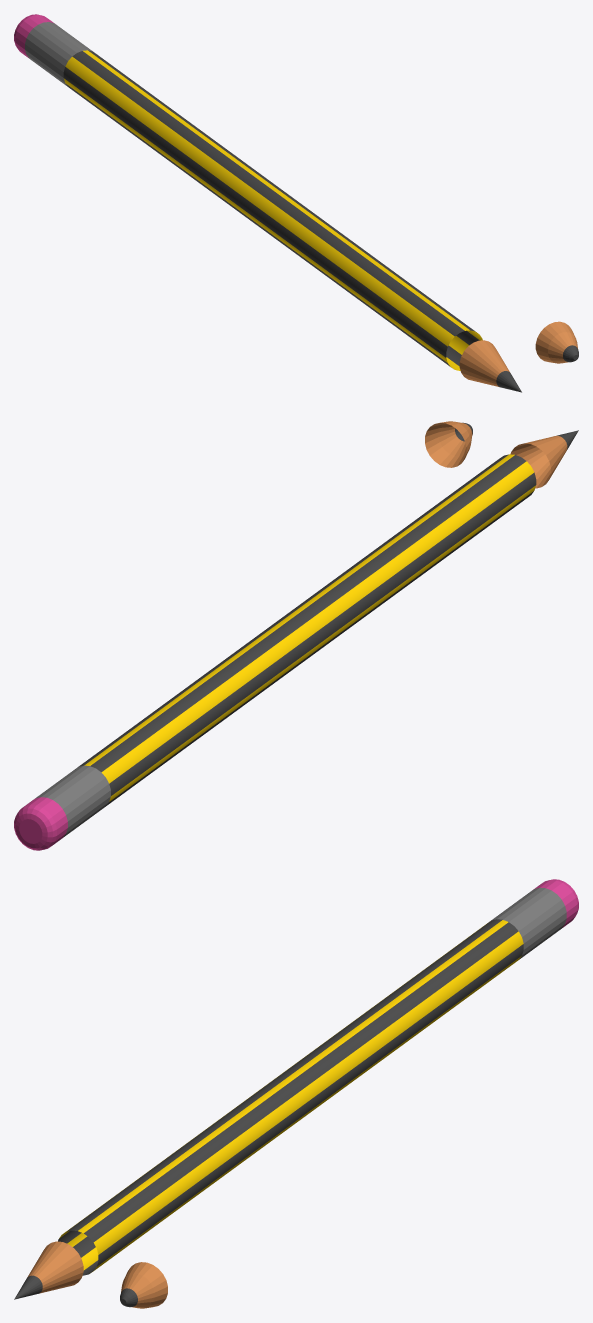
The model's file is Pencils.fbx.
3 renders of one model, top to bottom at view 1: azimuth 30°, elevation 25°; view 2: azimuth 150°, elevation 25°; view 3: azimuth 330°, elevation 25°, orthographic. The views are drawn at different scales.
Visible parts, largest first — view 1: Cylinder, Cylinder.003, Cylinder.001, Cylinder.002; view 2: Cylinder, Cylinder.003, Cylinder.002, Cylinder.001; view 3: Cylinder, Cylinder.003, Cylinder.001, Cylinder.002.
Boxes of the visible parts, x1=… form: Cylinder: x1=63, y1=50, x2=482, y2=370; Cylinder.003: x1=14, y1=14, x2=92, y2=86; Cylinder.001: x1=459, y1=340, x2=521, y2=392; Cylinder.002: x1=535, y1=321, x2=578, y2=363; Cylinder: x1=77, y1=454, x2=536, y2=805; Cylinder.003: x1=14, y1=765, x2=110, y2=850; Cylinder.002: x1=425, y1=421, x2=472, y2=467; Cylinder.001: x1=510, y1=430, x2=578, y2=488; Cylinder: x1=58, y1=919, x2=523, y2=1275; Cylinder.003: x1=489, y1=879, x2=578, y2=959; Cylinder.001: x1=14, y1=1241, x2=83, y2=1299; Cylinder.002: x1=120, y1=1262, x2=167, y2=1308.
Bounding box in the file's own units: 640 × 213 × 4813.
